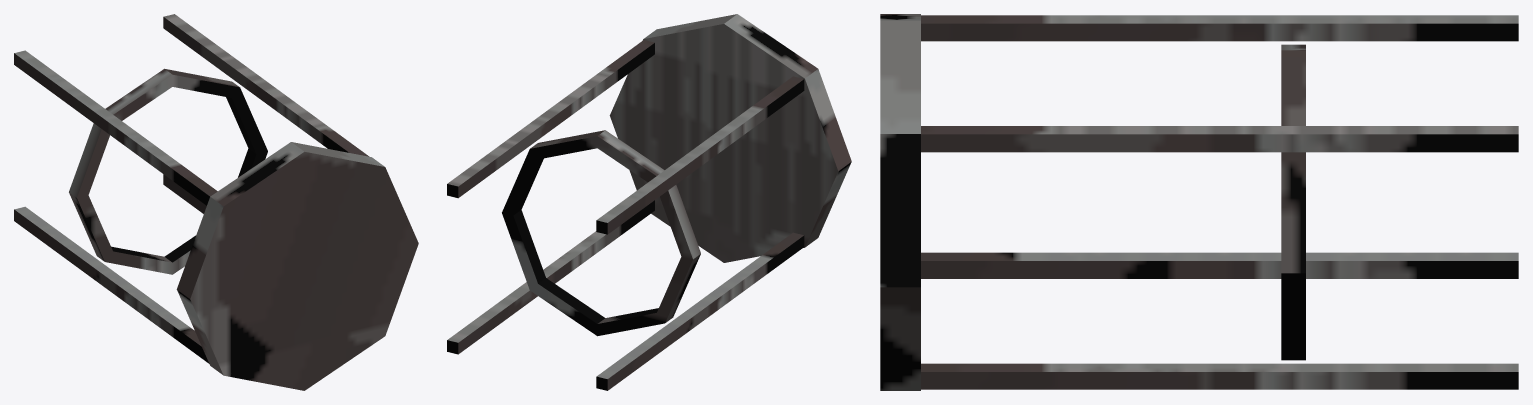
The model's file is pz_house_stool_diner.obj.
The picture shows the model from 3 angles, left to right: view 1: azimuth 30°, elevation 25°; view 2: azimuth 150°, elevation 25°; view 3: azimuth 270°, elevation 25°; orthographic projection. The views are drawn at different scales.
Visible parts, largest first — view 1: pz_house_stool_diner_|_1_assento, pz_house_stool_diner_|_6_assento, pz_house_stool_diner_|_3_pes_suporte, pz_house_stool_diner_|_2_pes_suporte, pz_house_stool_diner_|_5_pes_suporte, pz_house_stool_diner_|_4_pes_suporte; view 2: pz_house_stool_diner_|_1_assento, pz_house_stool_diner_|_6_assento, pz_house_stool_diner_|_2_pes_suporte, pz_house_stool_diner_|_3_pes_suporte, pz_house_stool_diner_|_5_pes_suporte, pz_house_stool_diner_|_4_pes_suporte; view 3: pz_house_stool_diner_|_3_pes_suporte, pz_house_stool_diner_|_4_pes_suporte, pz_house_stool_diner_|_5_pes_suporte, pz_house_stool_diner_|_2_pes_suporte, pz_house_stool_diner_|_1_assento, pz_house_stool_diner_|_6_assento.
Boxes of the visible parts, left/top/right/bottom form: pz_house_stool_diner_|_1_assento: left=176, top=142, right=418, bottom=390; pz_house_stool_diner_|_6_assento: left=69, top=68, right=267, bottom=274; pz_house_stool_diner_|_3_pes_suporte: left=14, top=50, right=217, bottom=205; pz_house_stool_diner_|_2_pes_suporte: left=14, top=206, right=209, bottom=363; pz_house_stool_diner_|_5_pes_suporte: left=163, top=14, right=368, bottom=156; pz_house_stool_diner_|_4_pes_suporte: left=163, top=174, right=206, bottom=213; pz_house_stool_diner_|_1_assento: left=609, top=14, right=851, bottom=262; pz_house_stool_diner_|_6_assento: left=502, top=130, right=700, bottom=336; pz_house_stool_diner_|_2_pes_suporte: left=596, top=232, right=804, bottom=390; pz_house_stool_diner_|_3_pes_suporte: left=596, top=76, right=804, bottom=234; pz_house_stool_diner_|_5_pes_suporte: left=447, top=40, right=654, bottom=198; pz_house_stool_diner_|_4_pes_suporte: left=447, top=200, right=654, bottom=354; pz_house_stool_diner_|_3_pes_suporte: left=921, top=15, right=1518, bottom=41; pz_house_stool_diner_|_4_pes_suporte: left=921, top=363, right=1518, bottom=389; pz_house_stool_diner_|_5_pes_suporte: left=921, top=126, right=1518, bottom=152; pz_house_stool_diner_|_2_pes_suporte: left=921, top=252, right=1518, bottom=278; pz_house_stool_diner_|_1_assento: left=880, top=14, right=920, bottom=390; pz_house_stool_diner_|_6_assento: left=1281, top=44, right=1305, bottom=360.
Size of the model in its own units: 0.49 by 0.49 by 0.78.
